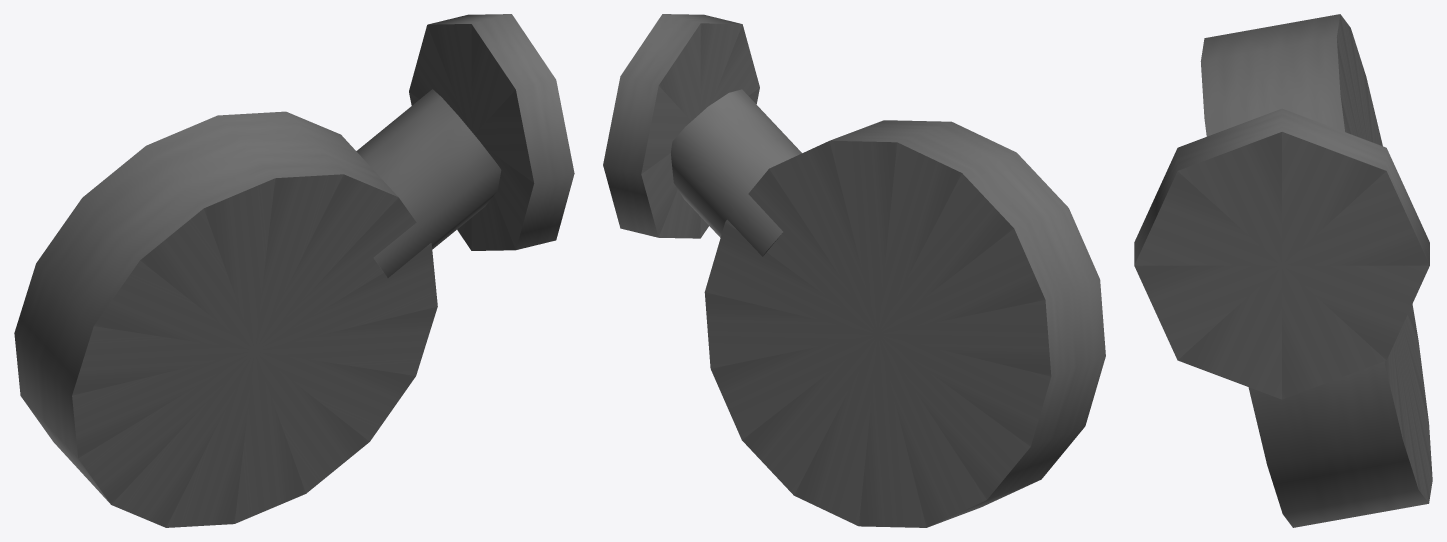
The model's file is mastarmcurve_5x1_c3_east.obj.
3 views of the same model, side by side, from view 1: azimuth 30°, elevation 25°; view 2: azimuth 150°, elevation 25°; view 3: azimuth 270°, elevation 25° (orthographic). The views are drawn at different scales.
Parts seen in each view (by area): view 1: mastarm_5x1_c3_east; view 2: mastarm_5x1_c3_east; view 3: mastarm_5x1_c3_east.
Part boxes in pixels (left/top/right/bottom): mastarm_5x1_c3_east: left=14, top=14, right=574, bottom=527; mastarm_5x1_c3_east: left=603, top=14, right=1105, bottom=527; mastarm_5x1_c3_east: left=1134, top=14, right=1432, bottom=527.
Bounding box in the file's own units: 0.8363 × 0.7894 × 0.4038.
